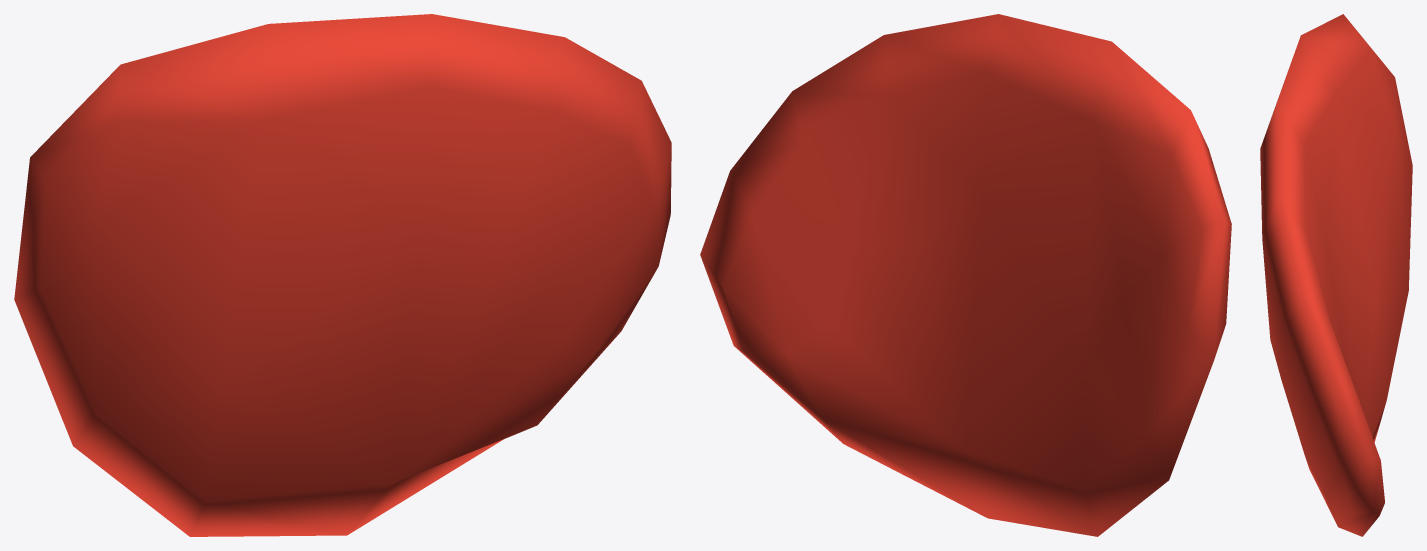
File: Adductor_pollicis_brevis-Insertion.l_Generated_Mesh_From_X3D.56.glb
The picture shows the model from 3 angles, left to right: view 1: azimuth 30°, elevation 25°; view 2: azimuth 150°, elevation 25°; view 3: azimuth 270°, elevation 25°; orthographic projection. The views are drawn at different scales.
Visible parts, largest first — view 1: Adductor_pollicis_brevis-Insertion.l_Generated_Mesh_From_X3D; view 2: Adductor_pollicis_brevis-Insertion.l_Generated_Mesh_From_X3D; view 3: Adductor_pollicis_brevis-Insertion.l_Generated_Mesh_From_X3D.
Boxes of the visible parts, <box> form: Adductor_pollicis_brevis-Insertion.l_Generated_Mesh_From_X3D: <box>14,14,671,536</box>; Adductor_pollicis_brevis-Insertion.l_Generated_Mesh_From_X3D: <box>700,14,1231,536</box>; Adductor_pollicis_brevis-Insertion.l_Generated_Mesh_From_X3D: <box>1260,14,1412,536</box>.
Size of the model in its own units: 0.00416 by 0.00355 by 0.00112.
